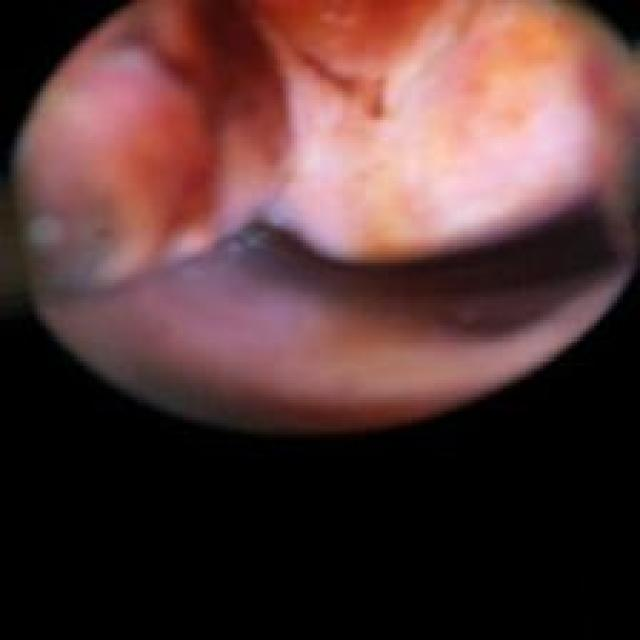type-3: (0, 0, 640, 423)
